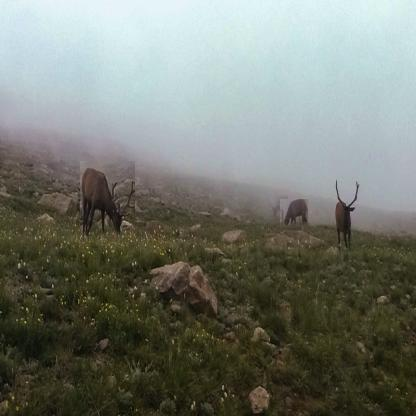Deer: (80, 161, 135, 242), (333, 180, 359, 255), (280, 199, 308, 230)
